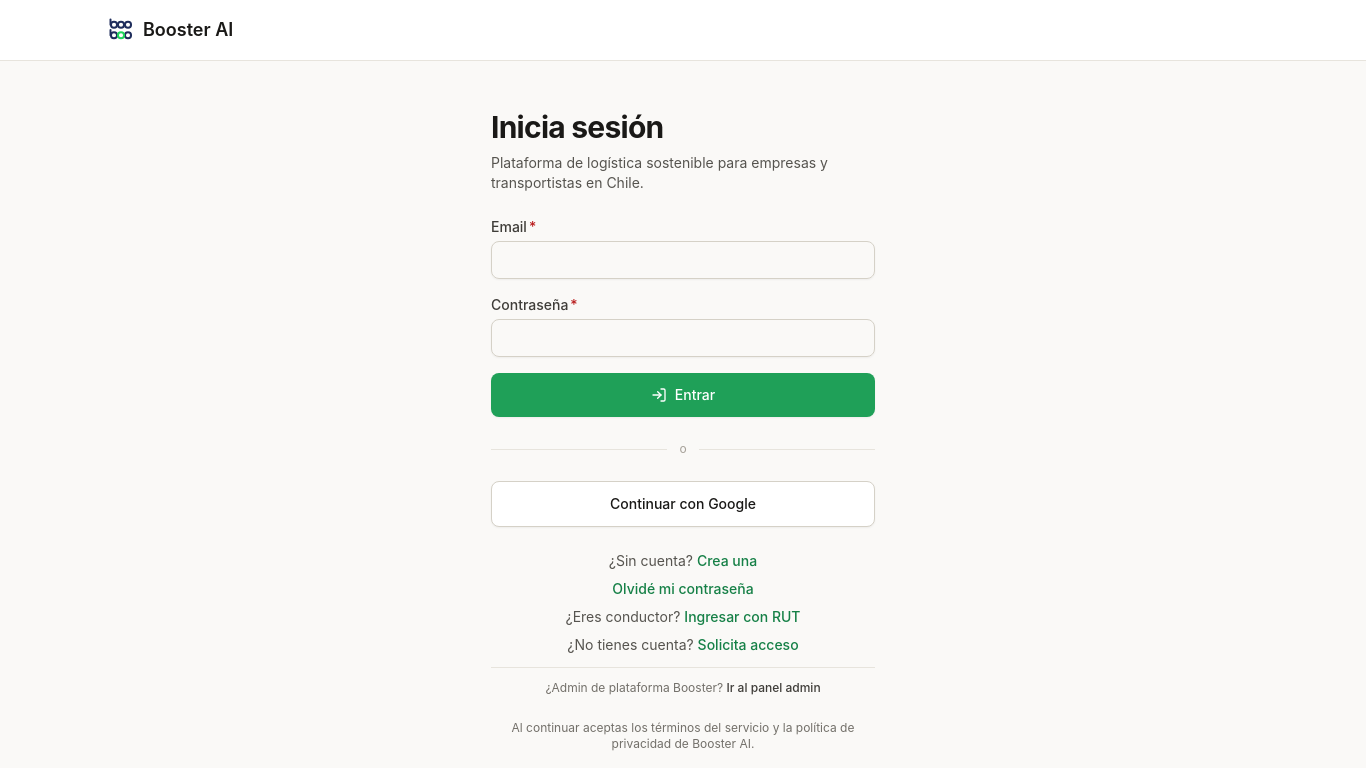
LoginRoute — Google sign in › Google error otro código → muestra mensaje genérico
Click the button "Continuar con Google". click: (683, 504)
box: [491,481,875,527]
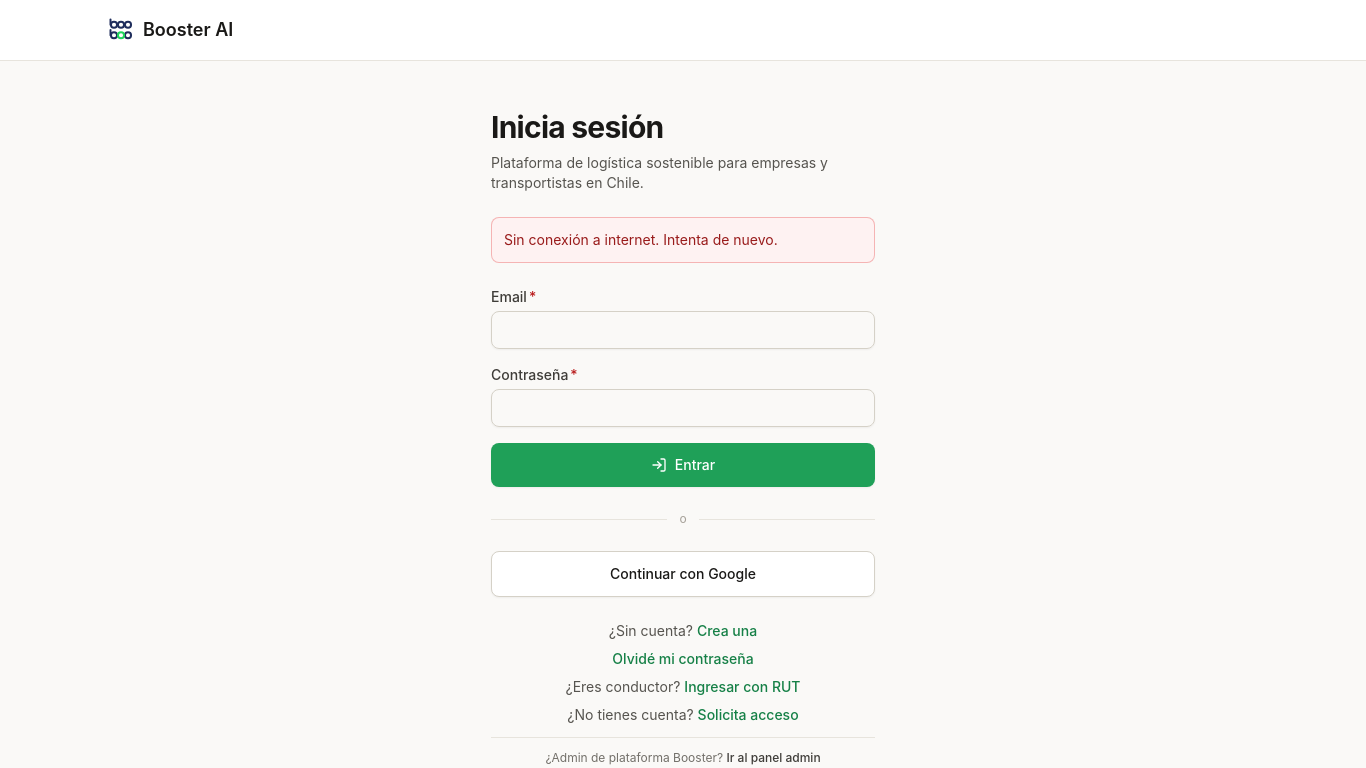
Check: the text "Sin conexión a internet. Intenta de nuevo." is shown, box [491,217,875,263]
